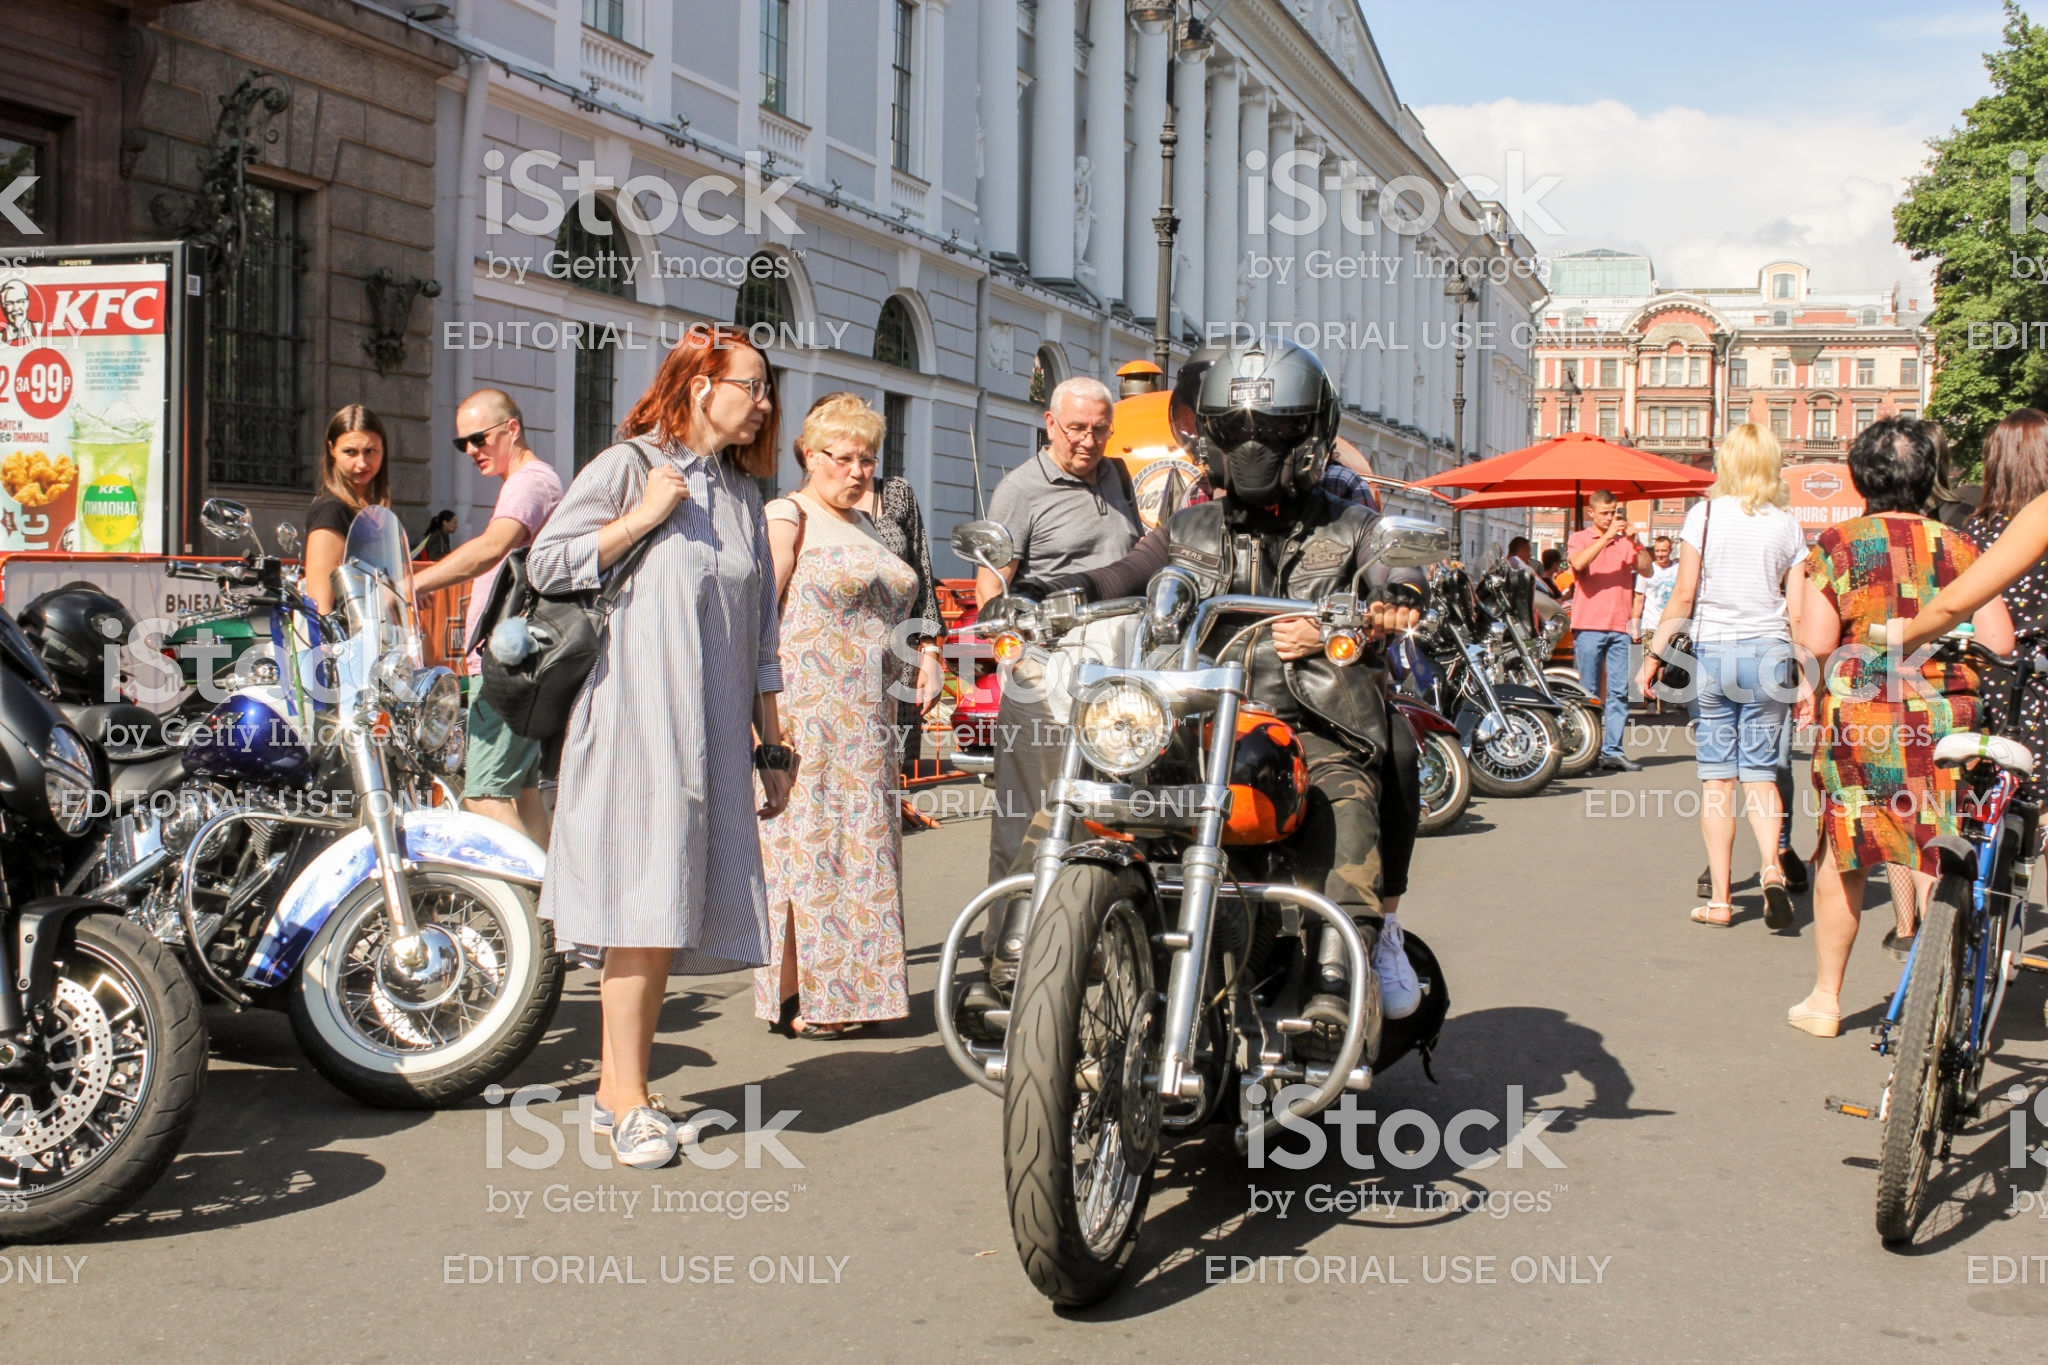helmet: (1186, 340, 1331, 497)
